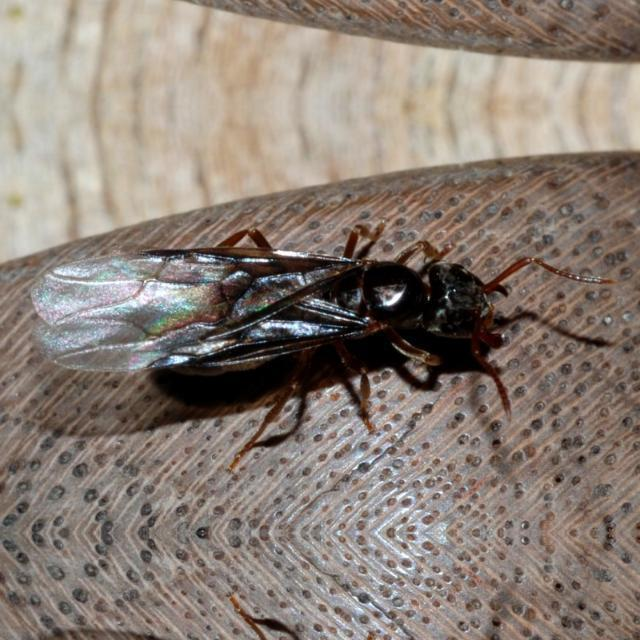Lasius: (56, 210, 528, 412)
